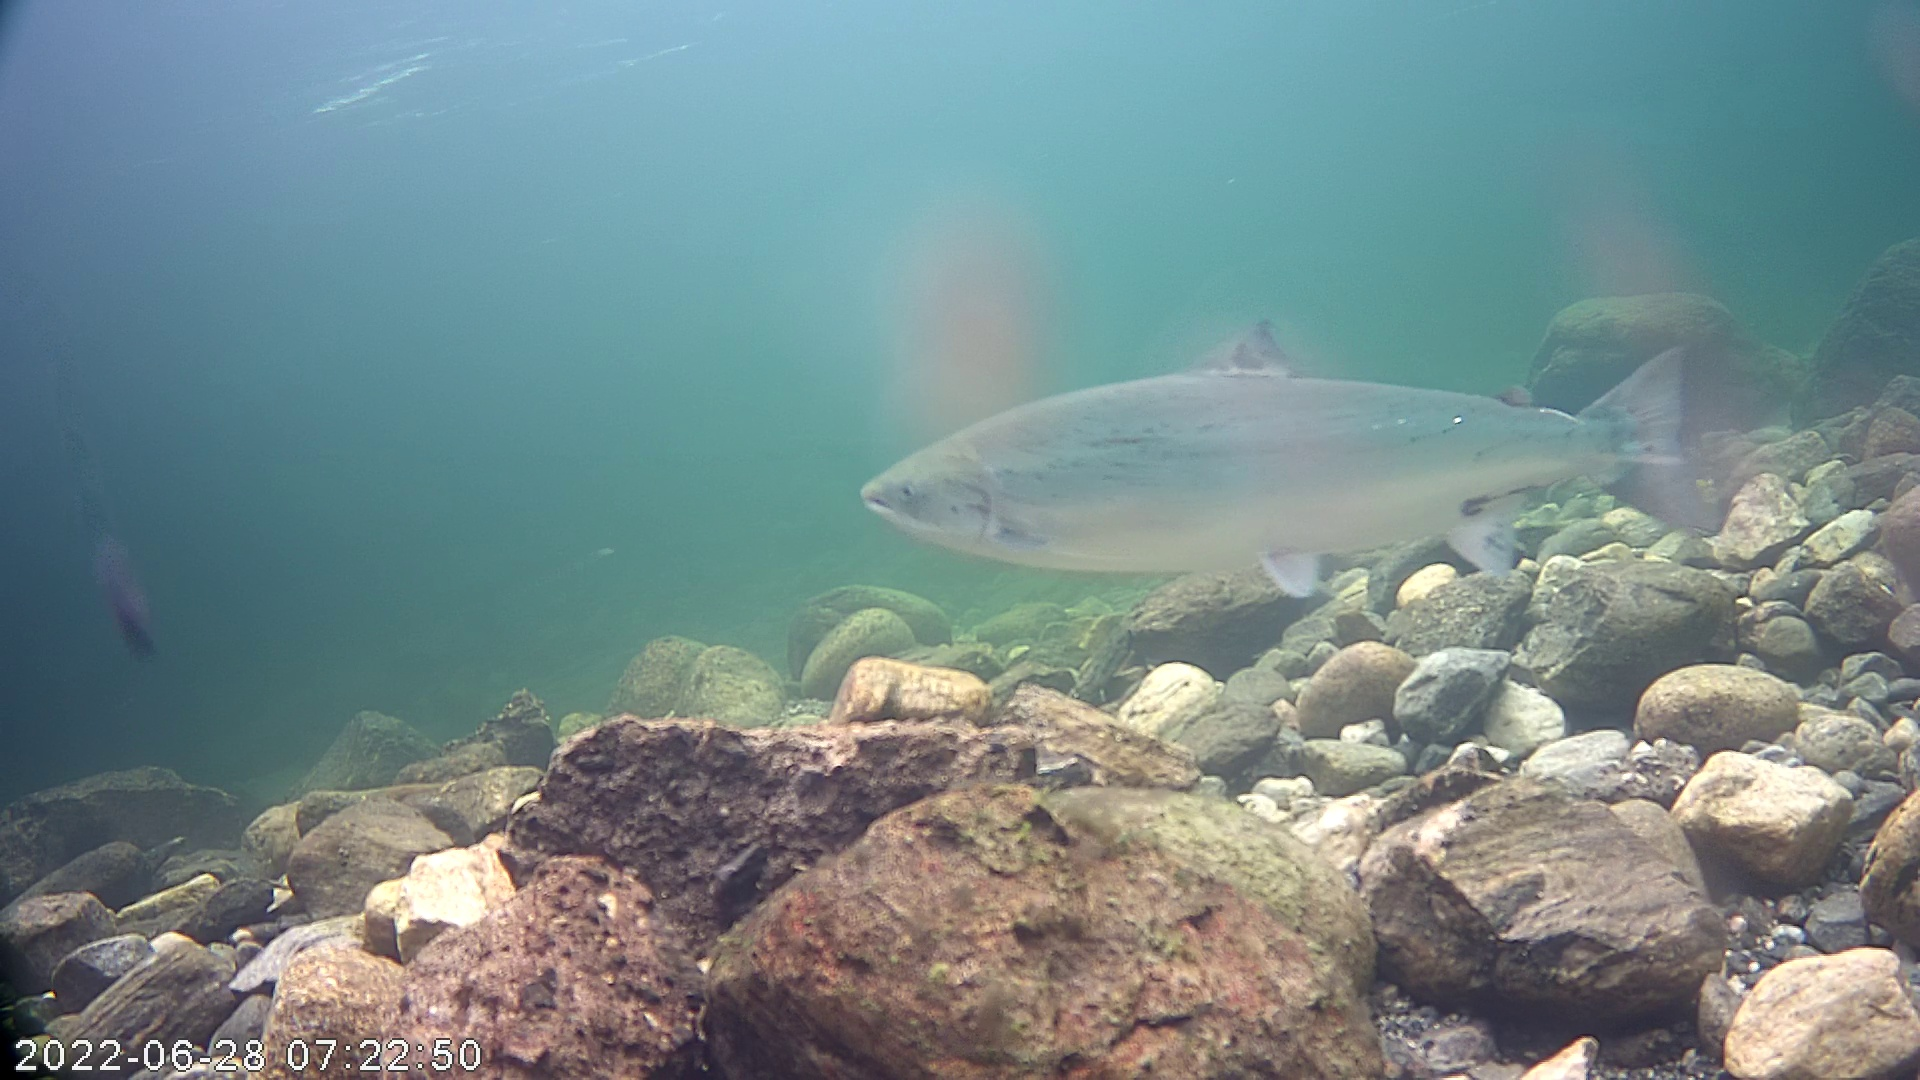salmon: (848, 241, 1726, 673)
